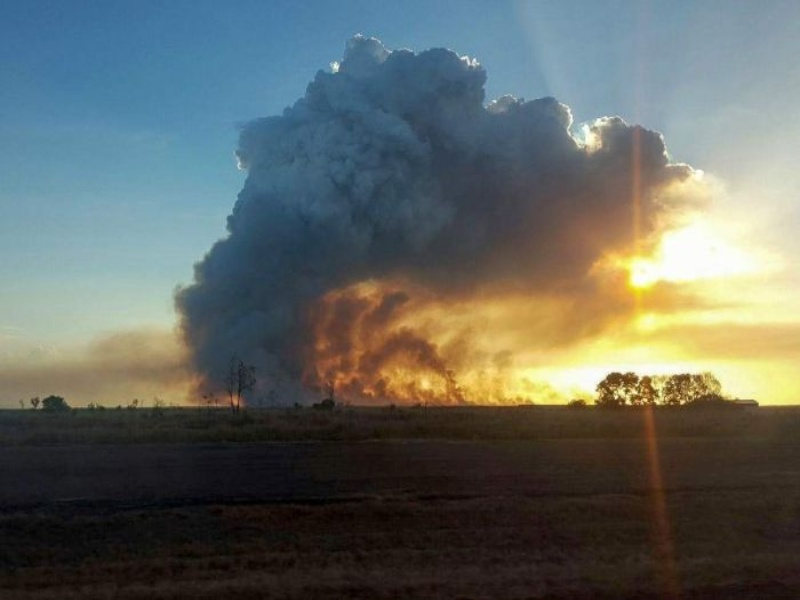smoke: (232, 35, 613, 273)
